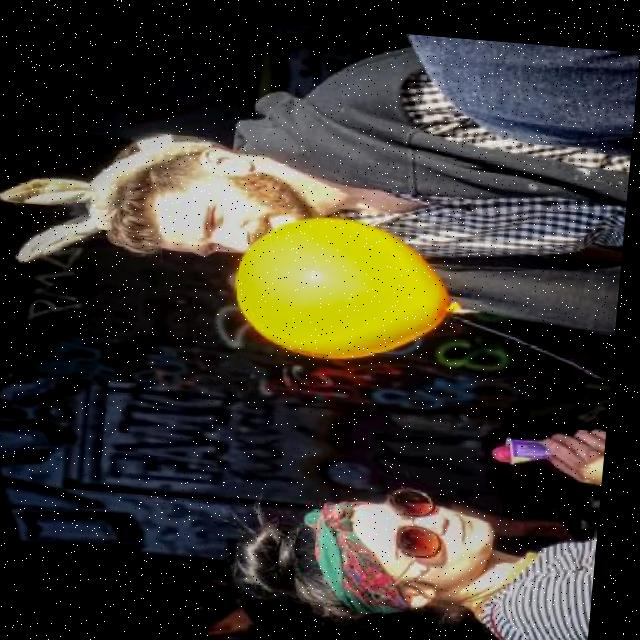balloon: (231, 203, 464, 362)
